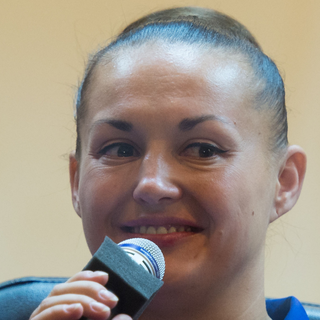eye: (180, 138, 230, 164), (95, 138, 142, 164)
